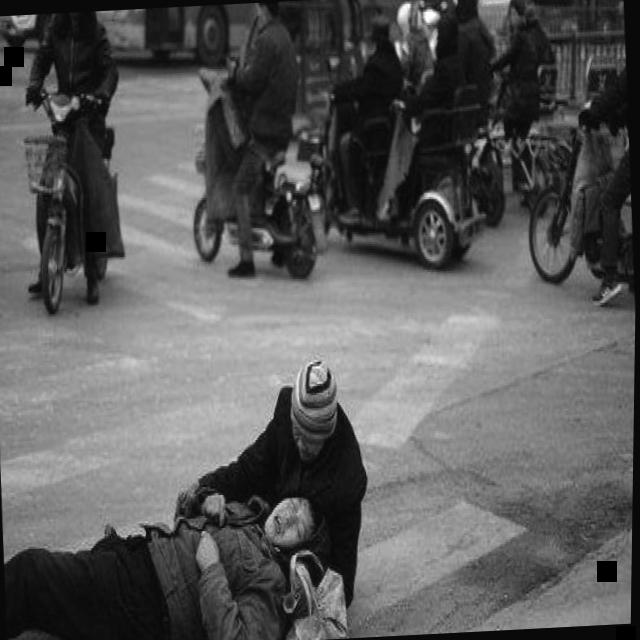Fall-Detected: (1, 473, 348, 640)
